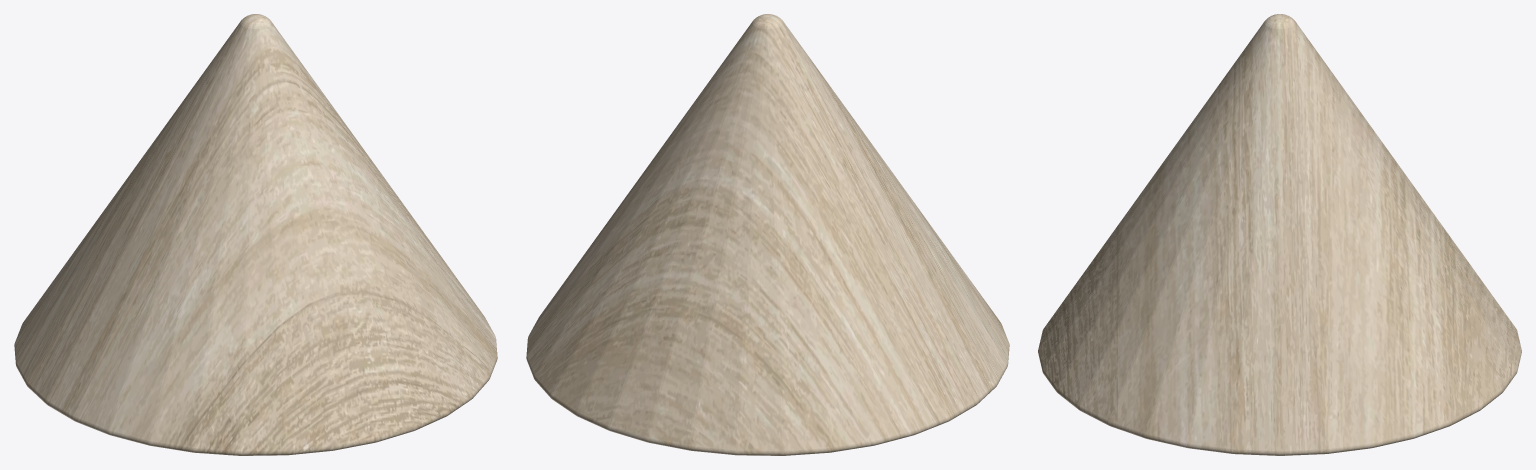
File: modeling12.glb
3 renders of one model, left to right at view 1: azimuth 30°, elevation 25°; view 2: azimuth 150°, elevation 25°; view 3: azimuth 270°, elevation 25°, orthographic.
Visible parts, largest first — view 1: 원뿔; view 2: 원뿔; view 3: 원뿔.
Boxes of the visible parts, x1=… form: 원뿔: x1=14, y1=14, x2=497, y2=455; 원뿔: x1=526, y1=14, x2=1009, y2=455; 원뿔: x1=1038, y1=14, x2=1521, y2=455.
Bounding box in the file's own units: 1.48 × 1.15 × 1.48.
1 material, 1 textured.
